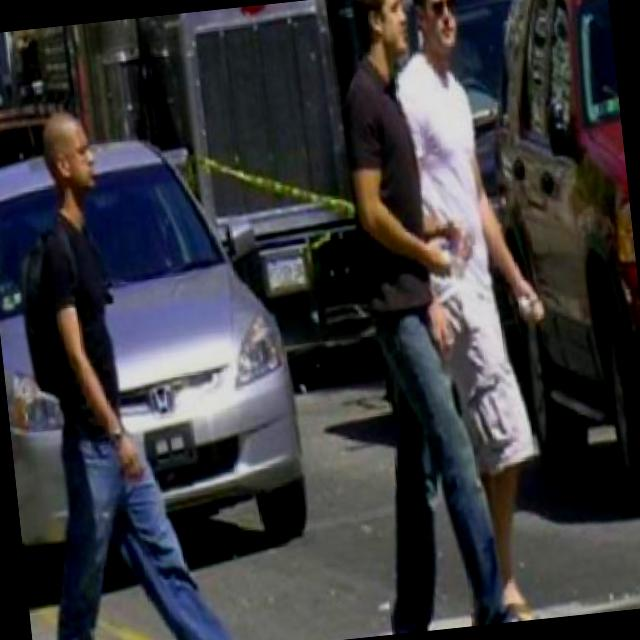Person: (0, 91, 271, 640), (314, 0, 539, 633), (391, 0, 582, 625)
